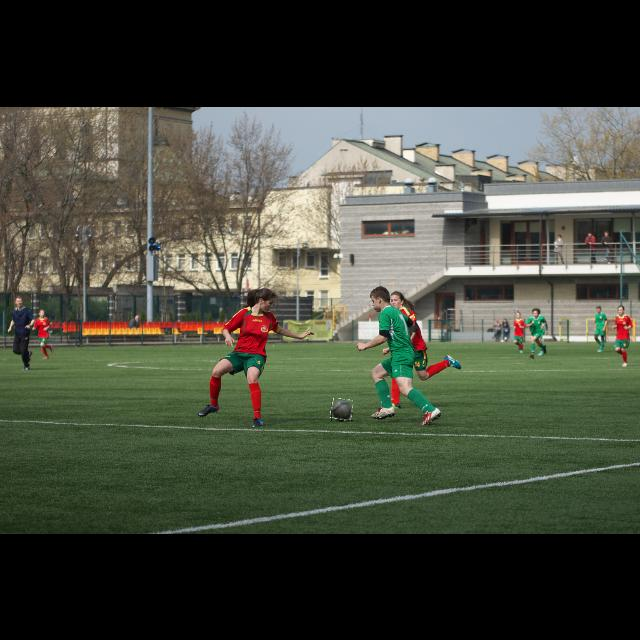Football: (331, 399, 353, 421)
